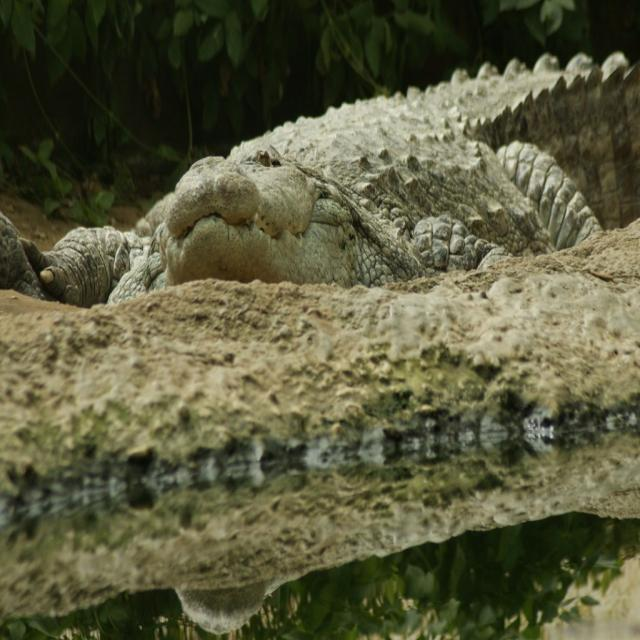crocodile: (0, 24, 639, 343)
